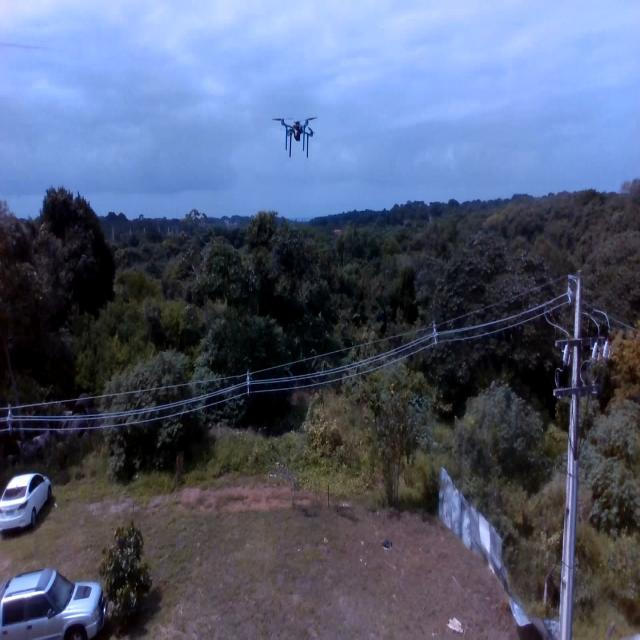-uav-: (268, 106, 324, 168)
